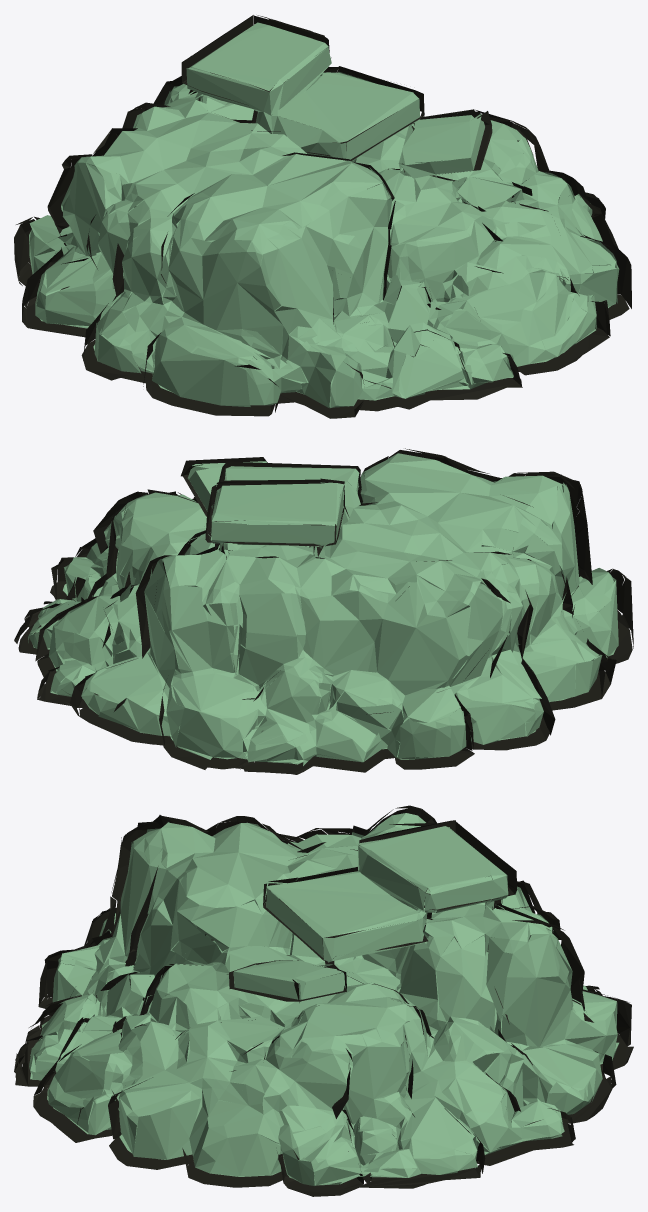
Rendered from df_v2_ramp_mesh_f_a.glb.
The picture shows the model from 3 angles, top to bottom: view 1: azimuth 30°, elevation 25°; view 2: azimuth 150°, elevation 25°; view 3: azimuth 270°, elevation 25°; orthographic projection. The views are drawn at different scales.
Parts seen in each view (by area): view 1: ramp_mesh_f_mesh_01, ramp_mesh_f_mesh_01_ink_outline; view 2: ramp_mesh_f_mesh_01, ramp_mesh_f_mesh_01_ink_outline; view 3: ramp_mesh_f_mesh_01, ramp_mesh_f_mesh_01_ink_outline.
Part boxes in pixels (box(x1,y1,x2,y2)): ramp_mesh_f_mesh_01: box(29, 22, 619, 408); ramp_mesh_f_mesh_01_ink_outline: box(14, 15, 631, 418); ramp_mesh_f_mesh_01: box(28, 453, 618, 765); ramp_mesh_f_mesh_01_ink_outline: box(14, 448, 633, 774); ramp_mesh_f_mesh_01: box(29, 813, 618, 1185); ramp_mesh_f_mesh_01_ink_outline: box(14, 805, 633, 1196).
Size of the model in its own units: 0.9444 by 0.3426 by 0.918.
